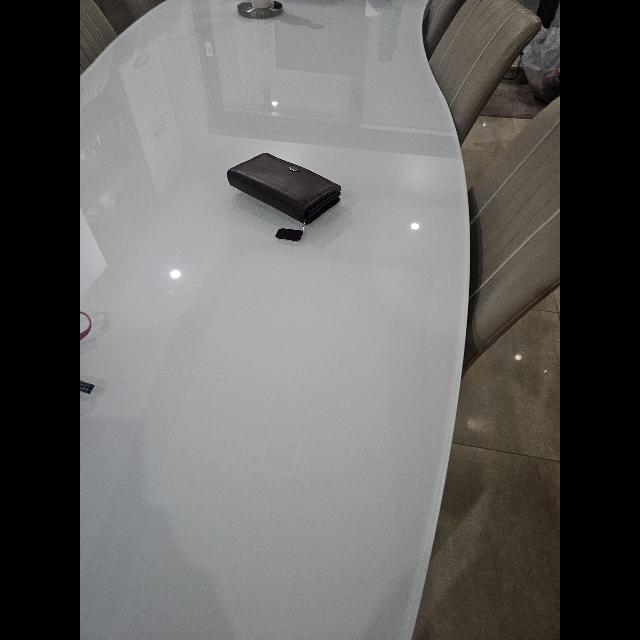Wallet: (226, 152, 342, 228)
